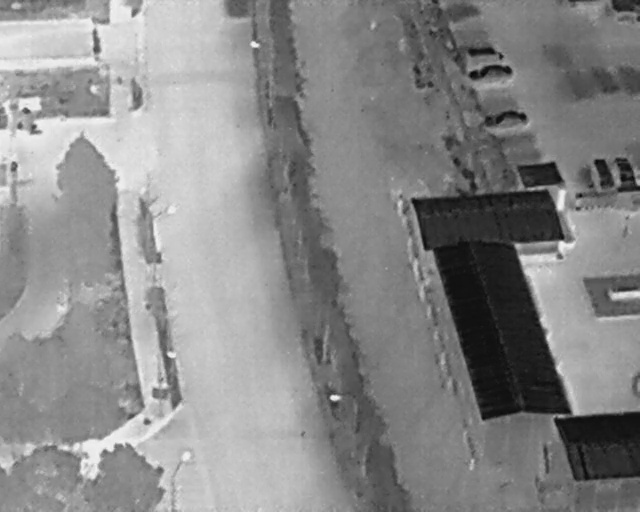Car: (467, 61, 514, 86), (483, 108, 529, 130), (591, 155, 616, 192), (613, 154, 637, 189), (465, 47, 503, 62)
